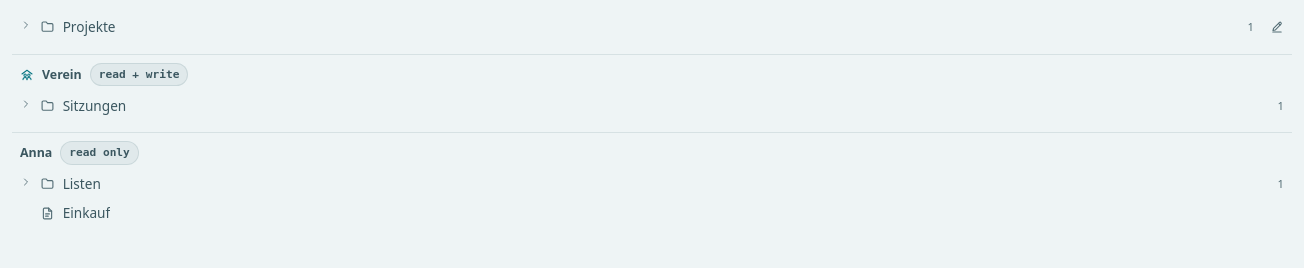
Scenario: the menu on a note › offers what the row already did, on a note the caller may change
Click the list item "Projekte 1" at point(89, 26), box [12,12,1262,42]
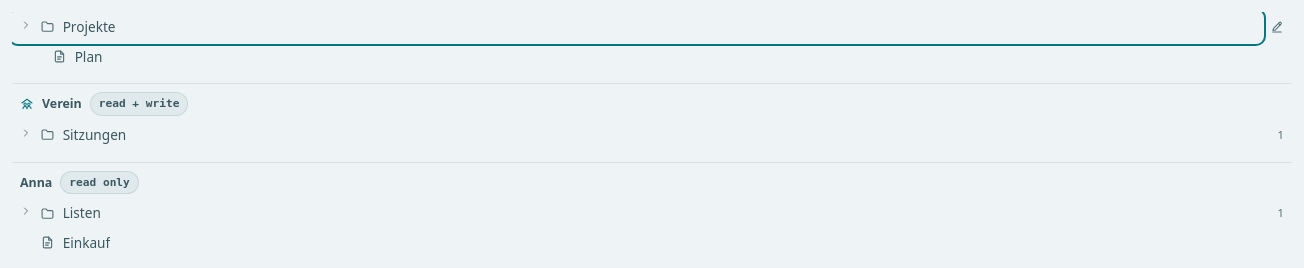
Right-click the list item "Plan" at point(59, 56), box [24,42,1200,71]
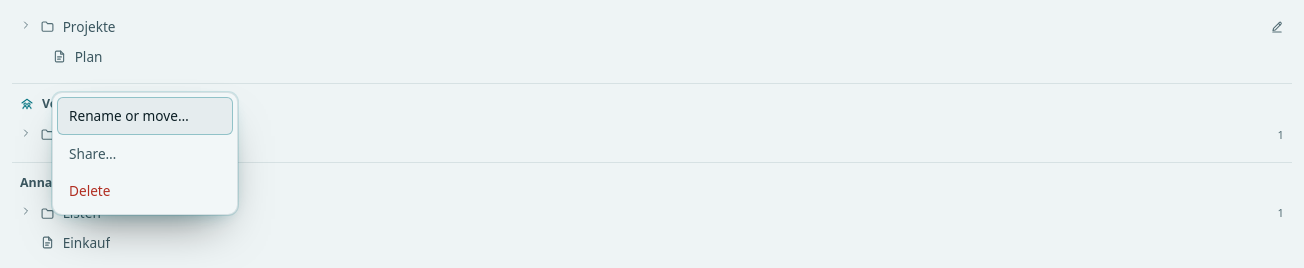
expect the menu is shown: met, box [52,92,238,215]
